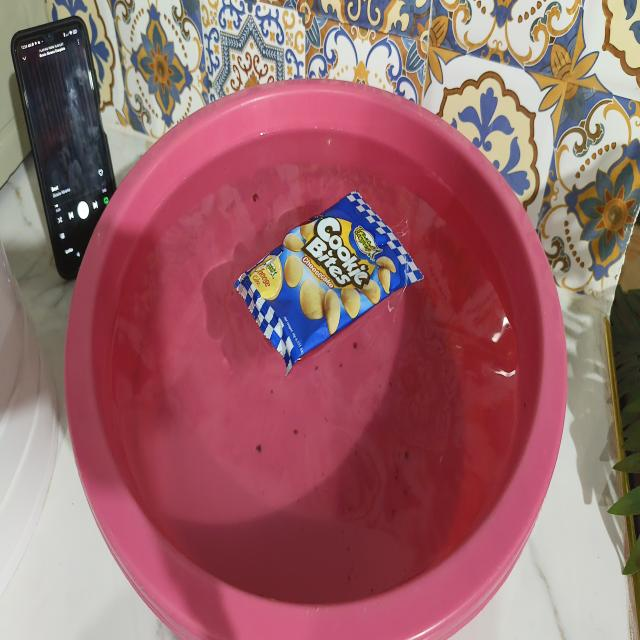Plastic Wrapper: (217, 156, 441, 392)
